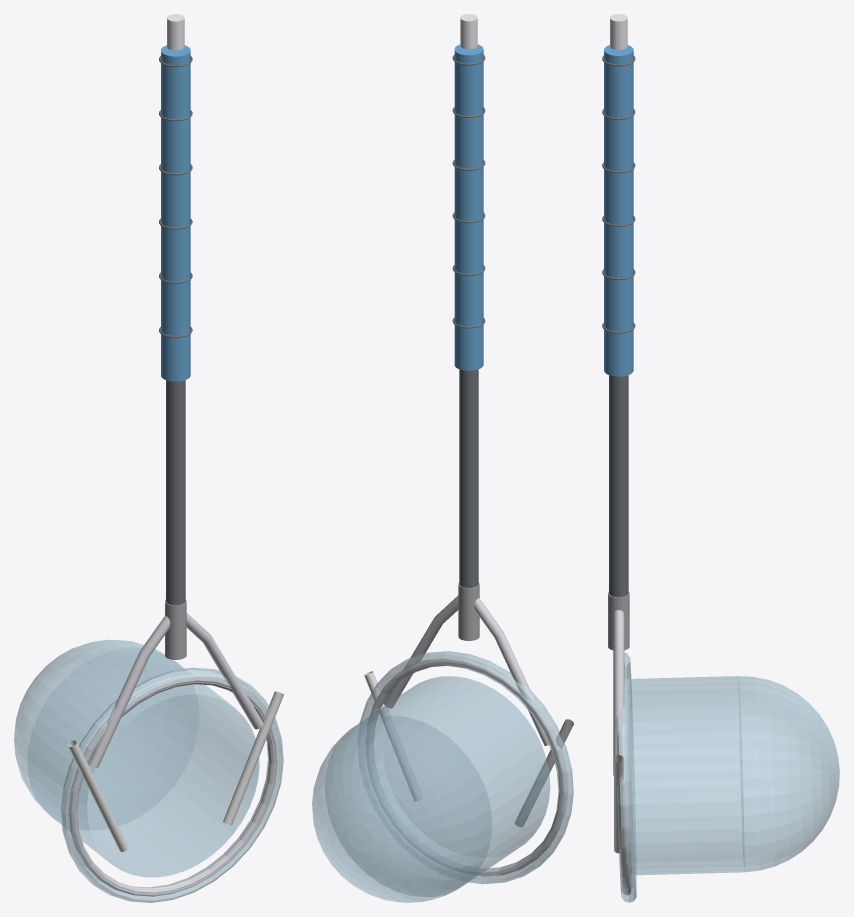
Rendered from Bolsa.fbx.
The picture shows the model from 3 angles, left to right: view 1: azimuth 30°, elevation 25°; view 2: azimuth 150°, elevation 25°; view 3: azimuth 270°, elevation 25°; orthographic projection. The views are drawn at different scales.
Parts seen in each view (by area): view 1: Bag_Wall, Bag_Handle, Bag_Mouth, Bag_Ring, Bag_Shaft, Bag_Cap, FrameArm_0, FrameArm_1, Drawcord_Tail, Drawcord_Tail.001, Bag_Collar, Bag_Plunger; view 2: Bag_Wall, Bag_Cap, Bag_Handle, Bag_Mouth, Bag_Ring, Bag_Shaft, FrameArm_0, FrameArm_1, Drawcord_Tail, Bag_Collar, Drawcord_Tail.001, Bag_Plunger; view 3: Bag_Wall, Bag_Cap, Bag_Handle, Bag_Shaft, Bag_Mouth, FrameArm_1, Bag_Ring, Bag_Collar, Drawcord_Tail, Bag_Plunger.
Part boxes in pixels (box(x1,y1,x2,y2)): Bag_Wall: box(27, 647, 259, 877); Bag_Handle: box(161, 45, 190, 381); Bag_Mouth: box(61, 667, 283, 902); Bag_Ring: box(69, 675, 277, 896); Bag_Shaft: box(166, 380, 185, 605); Bag_Cap: box(14, 639, 162, 808); FrameArm_0: box(88, 615, 170, 768); FrameArm_1: box(186, 613, 263, 729); Drawcord_Tail: box(223, 691, 283, 825); Drawcord_Tail.001: box(67, 740, 128, 851); Bag_Collar: box(165, 599, 186, 659); Bag_Plunger: box(167, 14, 184, 50); Bag_Wall: box(325, 676, 550, 896); Bag_Cap: box(312, 715, 491, 902); Bag_Handle: box(454, 44, 483, 370); Bag_Mouth: box(359, 651, 573, 884); Bag_Ring: box(366, 657, 567, 876); Bag_Shaft: box(459, 369, 478, 587); FrameArm_0: box(474, 598, 549, 745); FrameArm_1: box(383, 595, 458, 707); Drawcord_Tail: box(364, 671, 422, 801); Bag_Collar: box(458, 582, 479, 640); Drawcord_Tail.001: box(515, 719, 573, 826); Bag_Plunger: box(460, 14, 477, 49); Bag_Wall: box(625, 676, 744, 875); Bag_Cap: box(739, 676, 839, 872); Bag_Handle: box(604, 45, 633, 376); Bag_Shaft: box(609, 375, 628, 597); Bag_Mouth: box(615, 652, 636, 902); FrameArm_1: box(613, 610, 624, 775); Bag_Ring: box(617, 662, 631, 895); Bag_Collar: box(608, 591, 629, 650); Drawcord_Tail: box(614, 755, 623, 853); Bag_Plunger: box(610, 14, 627, 49).
Size of the model in its own units: 12.8 by 49.04 by 12.1.
